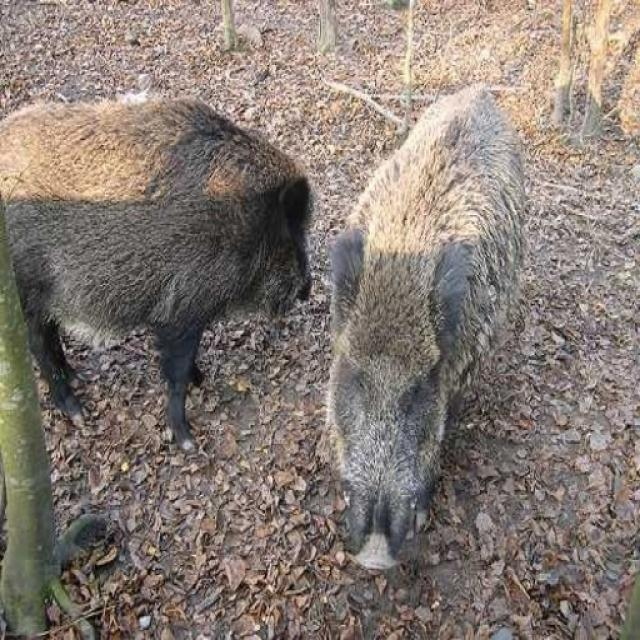pig: (284, 79, 552, 598), (0, 84, 329, 366)
